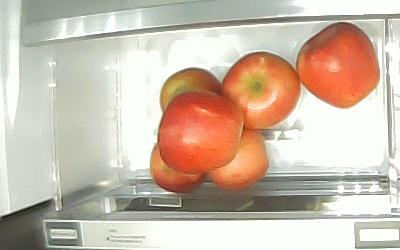apple: (295, 21, 381, 108), (157, 90, 243, 174), (223, 51, 301, 128), (208, 128, 268, 190), (160, 66, 222, 114), (149, 144, 207, 191)
